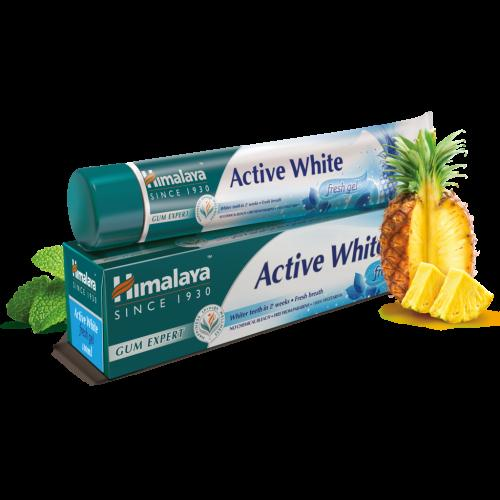toothpaste: (39, 226, 410, 379), (58, 107, 456, 226)
